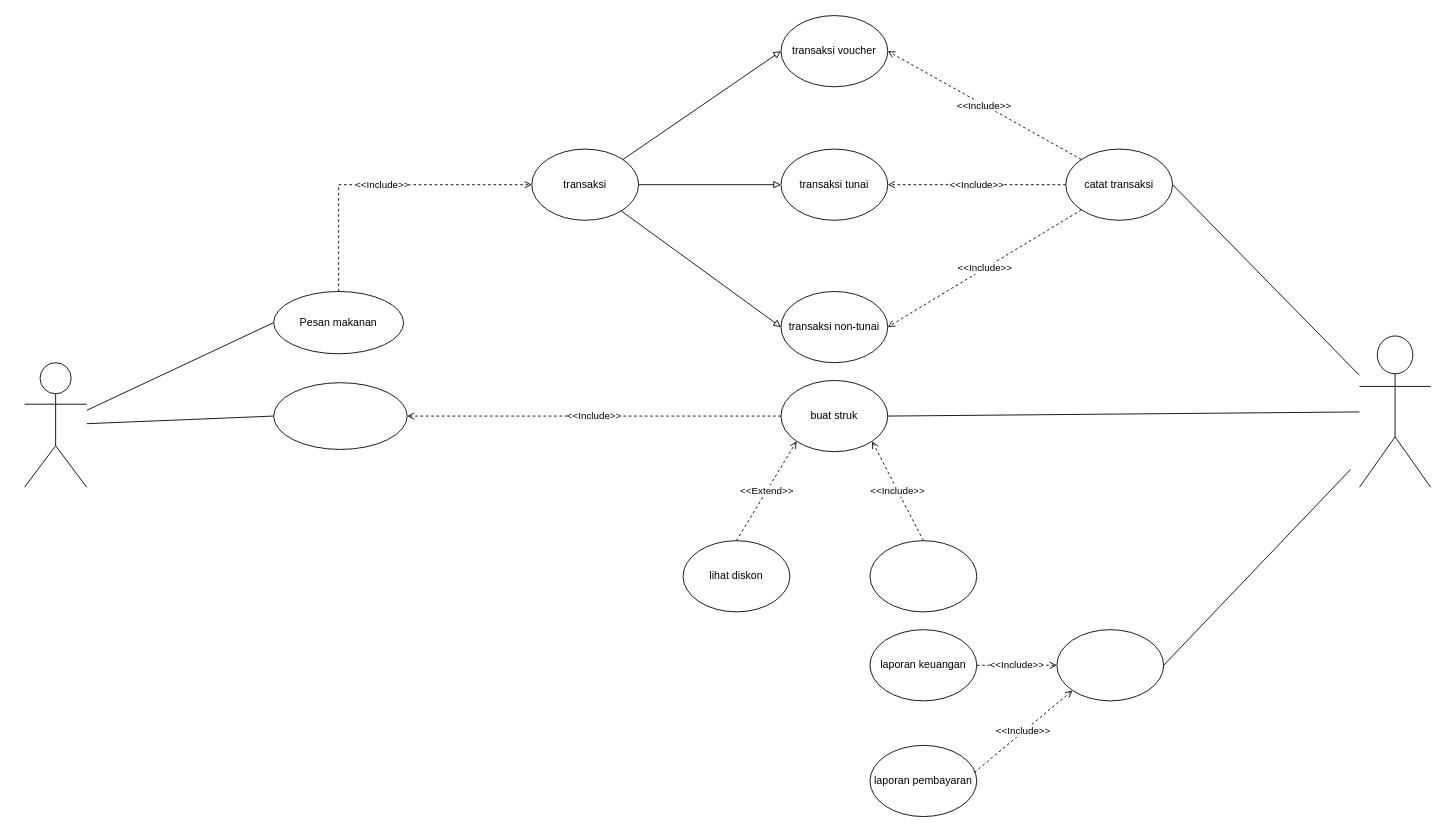
The diagram is 1446 pixels wide and 832 high, and some of its shapes have lost their labels. Here are the shapes that lost their labels. From the top down, the box of each, then its label:
(24, 362, 87, 487): User(Pelanggan)
(273, 382, 407, 449): struk
(1359, 335, 1431, 487): kasir
(869, 540, 977, 612): informasi toko
(1056, 629, 1164, 701): buat laporan
